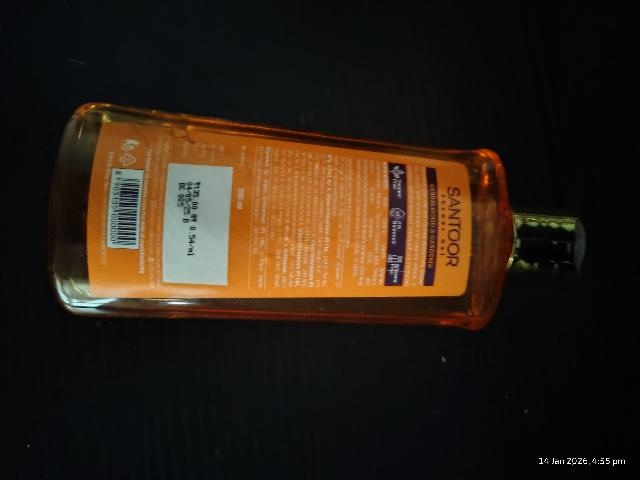santoor bodywash: (59, 95, 585, 336)
